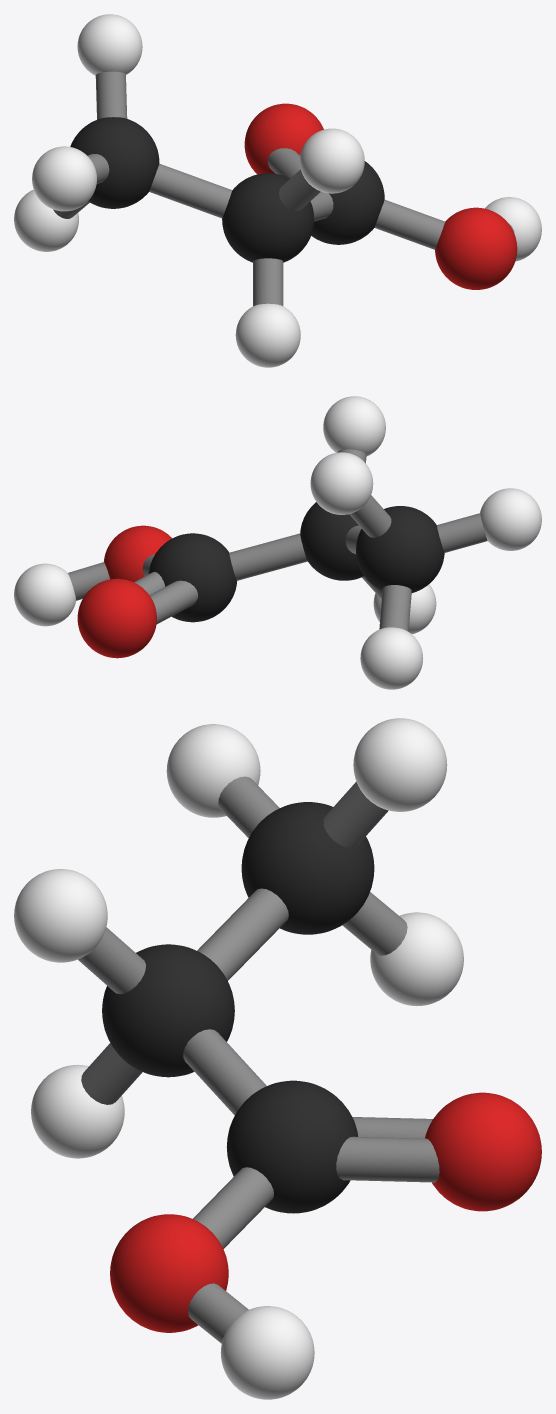
File: propansaeure.glb
3 views of the same model, one above another, from view 1: azimuth 30°, elevation 25°; view 2: azimuth 150°, elevation 25°; view 3: azimuth 270°, elevation 25° (orthographic). The views are drawn at different scales.
Parts seen in each view (by area): view 1: C_1, O_4, C_0, H_8, H_7, C_2, H_9, O_3, H_6, H_5, B0, B3 (+6 smaller); view 2: C_0, O_3, C_2, C_1, H_5, H_6, H_10, H_7, H_8, O_4, B1, B6 (+6 smaller); view 3: C_2, C_0, C_1, O_3, O_4, H_10, H_6, H_8, H_5, H_9, H_7, B2a (+10 smaller).
Boxes of the visible parts, <box> form: C_1: <box>222,173,314,262</box>; O_4: <box>435,207,517,289</box>; C_0: <box>70,117,159,208</box>; H_8: <box>299,128,364,193</box>; H_7: <box>32,146,96,211</box>; C_2: <box>311,161,384,244</box>; H_9: <box>235,303,300,367</box>; O_3: <box>244,103,323,174</box>; H_6: <box>77,14,142,75</box>; H_5: <box>14,189,78,251</box>; B0: <box>149,163,232,218</box>; B3: <box>374,200,444,249</box>; C_0: <box>356,506,444,592</box>; O_3: <box>77,578,156,658</box>; C_2: <box>148,533,236,622</box>; C_1: <box>300,502,363,580</box>; H_5: <box>360,627,423,689</box>; H_6: <box>310,452,373,514</box>; H_10: <box>14,563,76,626</box>; H_7: <box>480,488,541,550</box>; H_8: <box>323,396,385,455</box>; O_4: <box>104,525,172,582</box>; B1: <box>229,533,307,580</box>; B6: <box>436,513,487,552</box>; C_2: <box>226,1080,357,1213</box>; C_0: <box>241,802,374,934</box>; C_1: <box>102,944,234,1077</box>; O_3: <box>425,1092,541,1211</box>; O_4: <box>110,1214,228,1332</box>; H_10: <box>220,1306,314,1399</box>; H_6: <box>353,718,447,811</box>; H_8: <box>14,869,107,962</box>; H_5: <box>370,912,463,1005</box>; H_9: <box>31,1064,124,1158</box>; H_7: <box>166,724,260,817</box>; B2a: <box>336,1136,439,1182</box>.
Bounding box in the file's own units: 5.53 × 2.99 × 3.38.
